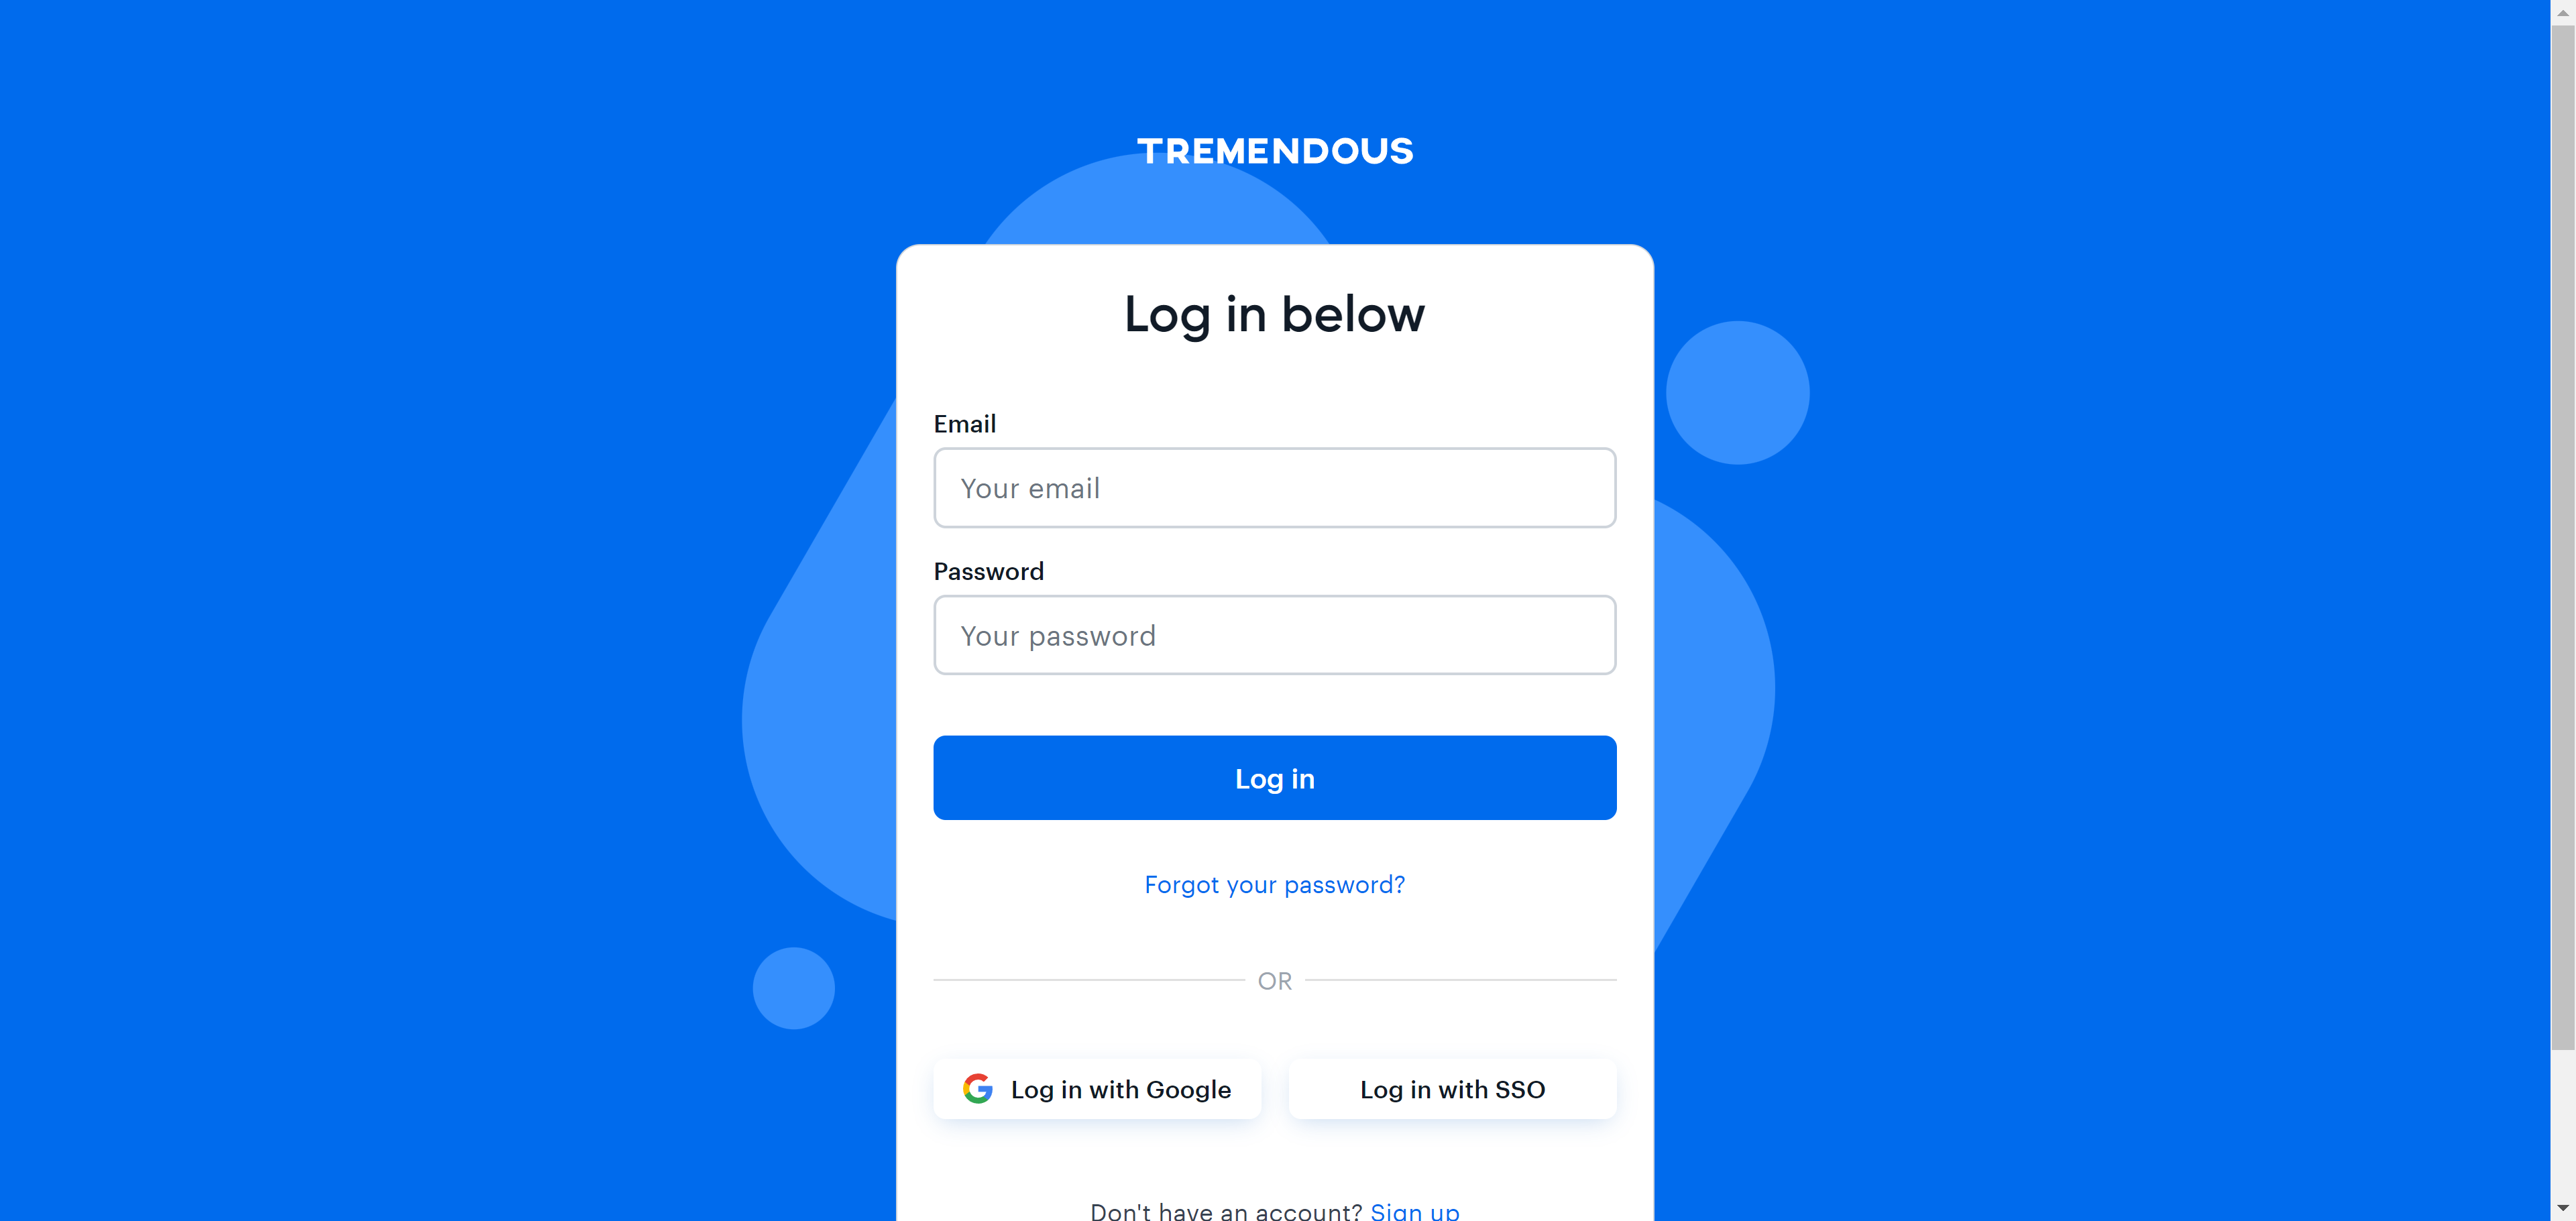login_button: (933, 735, 1617, 820)
login_form: (925, 404, 1626, 832)
